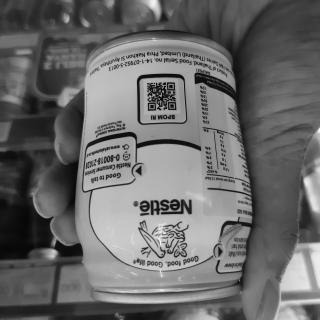alumunium_can: (62, 26, 258, 316)
